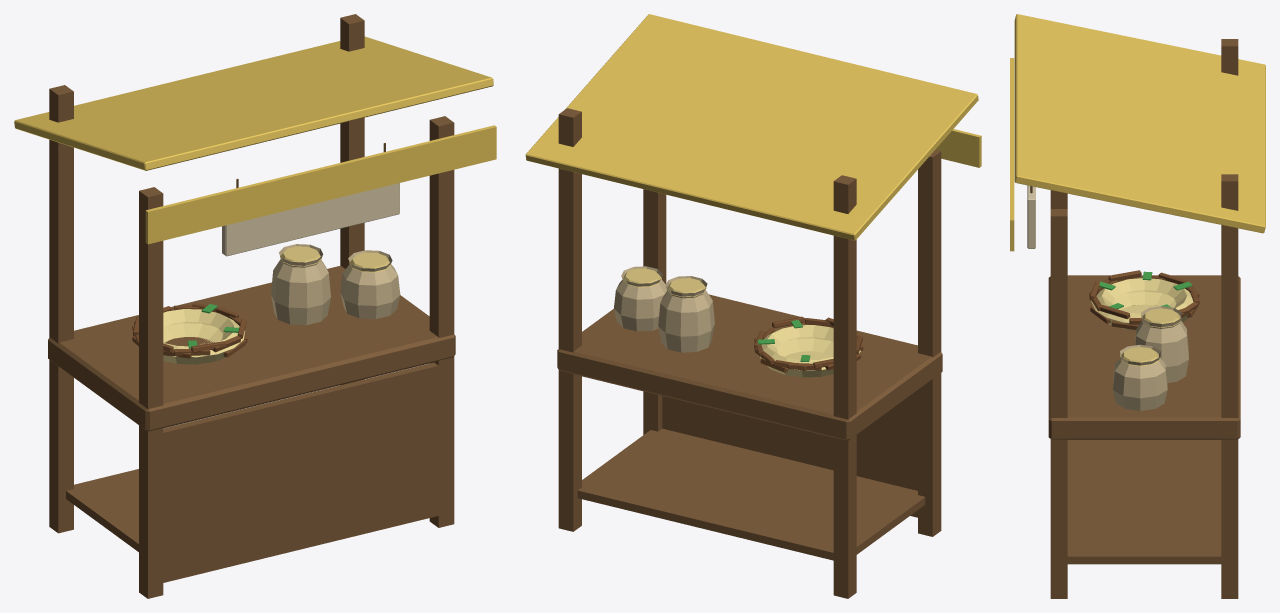
File: Prop_YTM_Stall_Eggs.glb
The picture shows the model from 3 angles, left to right: view 1: azimuth 30°, elevation 25°; view 2: azimuth 150°, elevation 25°; view 3: azimuth 270°, elevation 25°; orthographic projection. The views are drawn at different scales.
Visible parts, largest first — view 1: Prop_YTM_Stall_Eggs, Prop_YTM_Stall_Eggs_Groats, Prop_YTM_Stall_Eggs_Goods; view 2: Prop_YTM_Stall_Eggs, Prop_YTM_Stall_Eggs_Groats, Prop_YTM_Stall_Eggs_Goods; view 3: Prop_YTM_Stall_Eggs, Prop_YTM_Stall_Eggs_Groats, Prop_YTM_Stall_Eggs_Goods.
Part boxes in pixels (left/top/right/bottom): Prop_YTM_Stall_Eggs: left=14, top=14, right=496, bottom=598; Prop_YTM_Stall_Eggs_Groats: left=271, top=244, right=400, bottom=325; Prop_YTM_Stall_Eggs_Goods: left=132, top=303, right=247, bottom=364; Prop_YTM_Stall_Eggs: left=525, top=14, right=981, bottom=598; Prop_YTM_Stall_Eggs_Groats: left=614, top=266, right=714, bottom=352; Prop_YTM_Stall_Eggs_Goods: left=754, top=316, right=863, bottom=377; Prop_YTM_Stall_Eggs: left=1010, top=14, right=1265, bottom=598; Prop_YTM_Stall_Eggs_Groats: left=1113, top=306, right=1188, bottom=410; Prop_YTM_Stall_Eggs_Goods: left=1089, top=270, right=1199, bottom=330.
Size of what is drawn, in the model's own units: 1.8 by 2.24 by 1.2.
